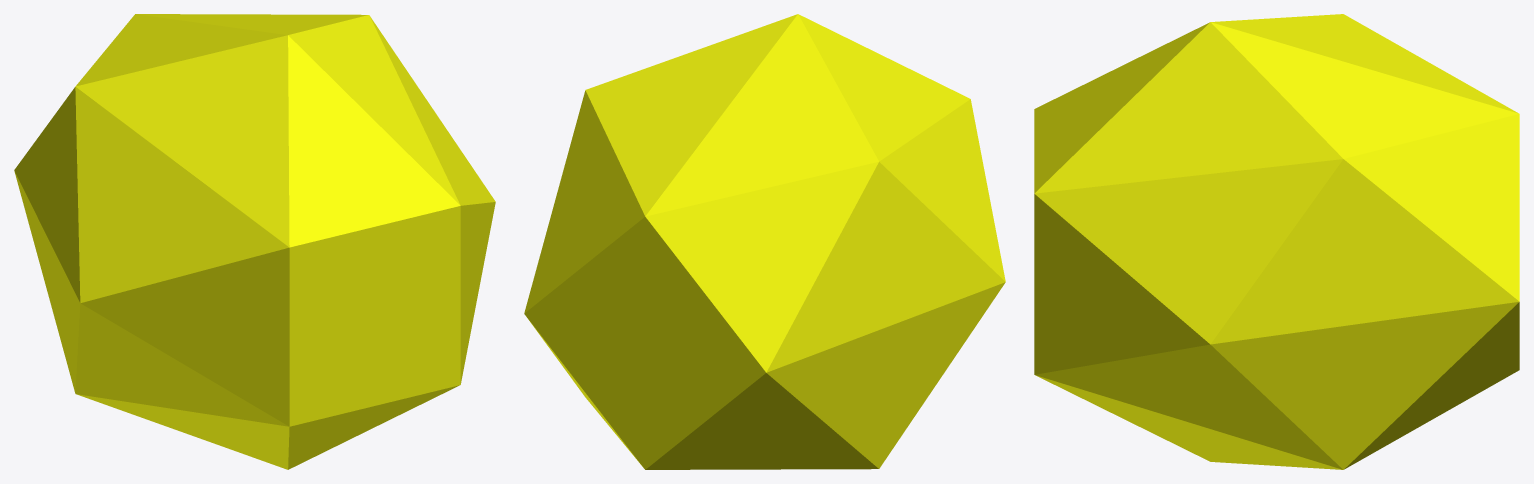
3 renders of one model, left to right at view 1: azimuth 30°, elevation 25°; view 2: azimuth 150°, elevation 25°; view 3: azimuth 270°, elevation 25°, orthographic.
Parts seen in each view (by area): view 1: body; view 2: body; view 3: body.
Boxes of the visible parts, bbox=[...] form: body: bbox=[14, 14, 495, 469]; body: bbox=[524, 14, 1005, 469]; body: bbox=[1034, 14, 1519, 469].
Bounding box in the file's own units: 0.75 × 0.75 × 0.75.
